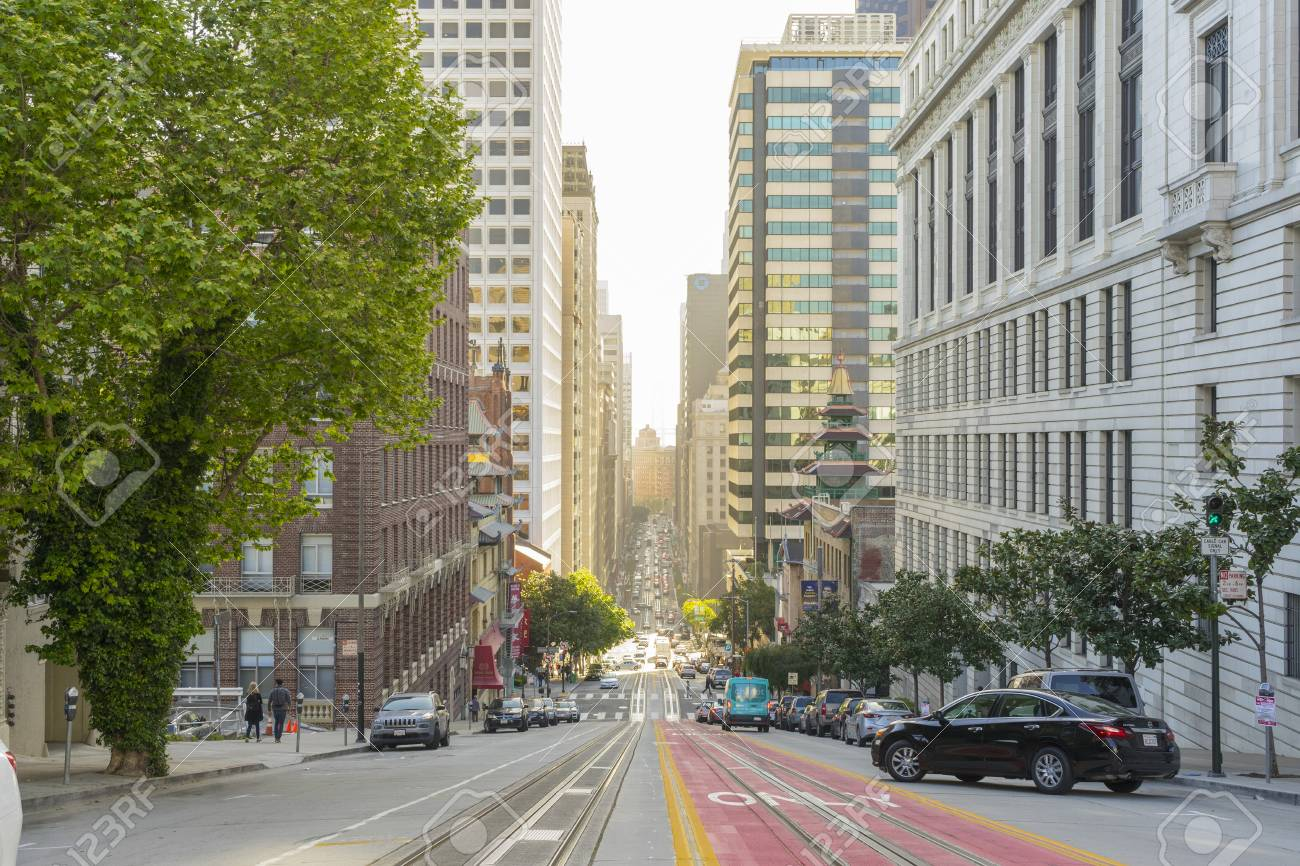tree: (1, 1, 491, 779)
